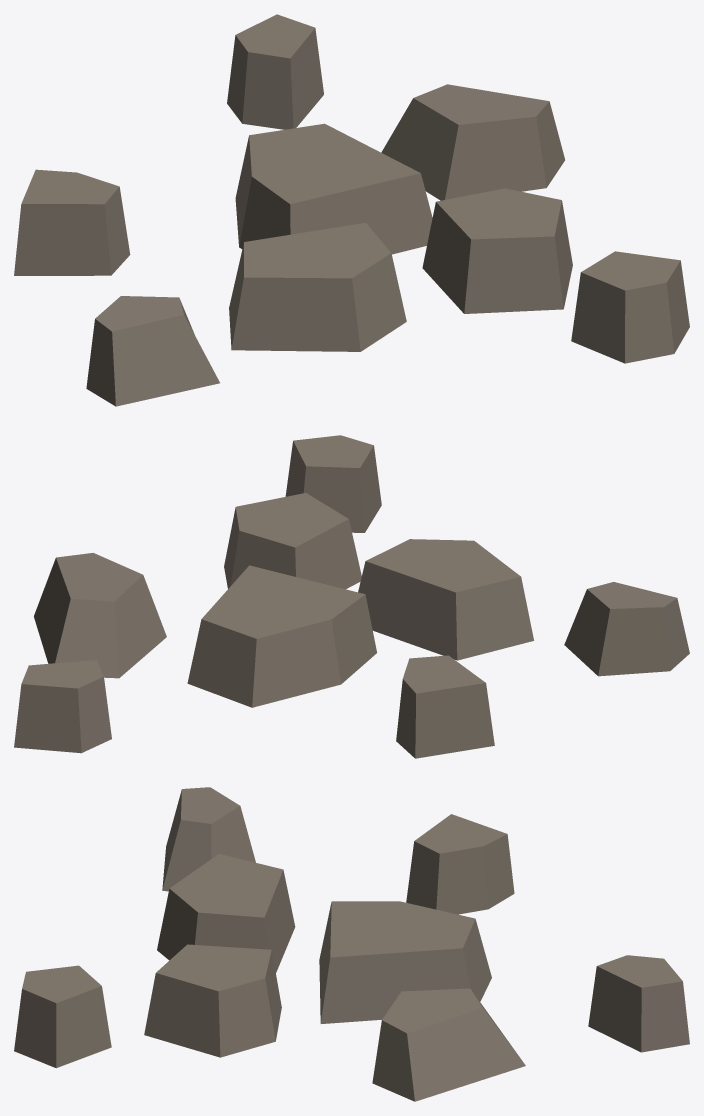
File: SM_Env_Pebbles_03.glb
3 views of the same model, one above another, from view 1: azimuth 30°, elevation 25°; view 2: azimuth 150°, elevation 25°; view 3: azimuth 270°, elevation 25° (orthographic). The views are drawn at different scales.
Visible parts, largest first — view 1: SM_Env_Pebbles_03; view 2: SM_Env_Pebbles_03; view 3: SM_Env_Pebbles_03.
Boxes of the visible parts, x1=… form: SM_Env_Pebbles_03: x1=14, y1=14, x2=689, y2=406; SM_Env_Pebbles_03: x1=14, y1=435, x2=689, y2=758; SM_Env_Pebbles_03: x1=14, y1=787, x2=689, y2=1101.
Size of the model in its own units: 1.38 by 0.153 by 1.54.
1 material, 1 textured.
